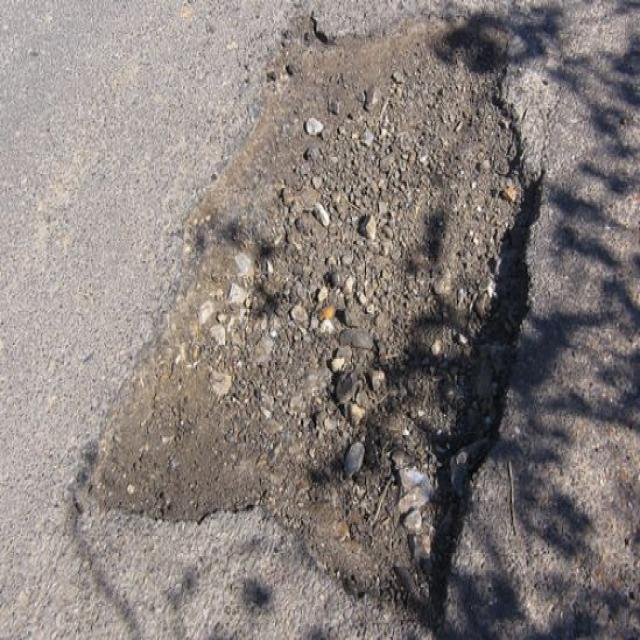pothole: (68, 1, 544, 634)
